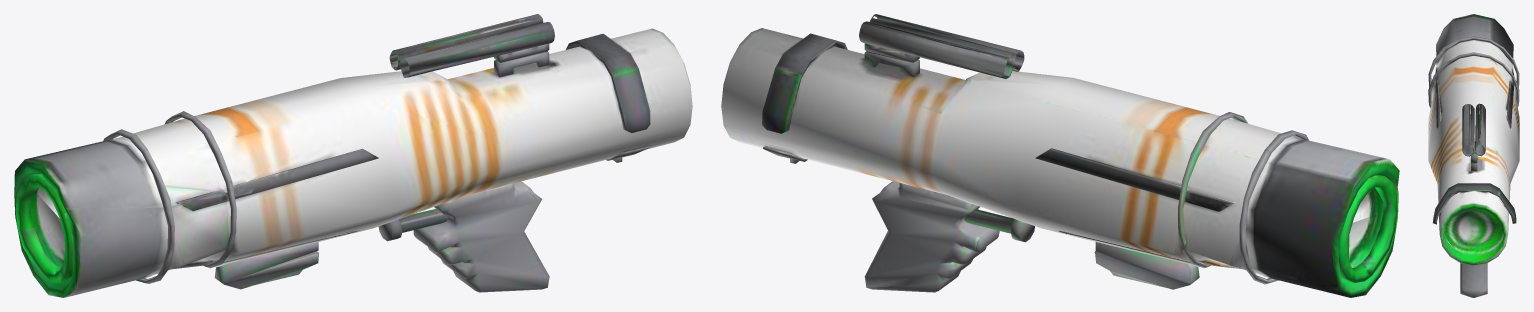
The model's file is cannon.glb.
3 views of the same model, side by side, from view 1: azimuth 30°, elevation 25°; view 2: azimuth 150°, elevation 25°; view 3: azimuth 270°, elevation 25° (orthographic). The views are drawn at different scales.
Size of the model in its own units: 0.9585 by 0.3833 by 0.2075.
1 material, 1 textured.
